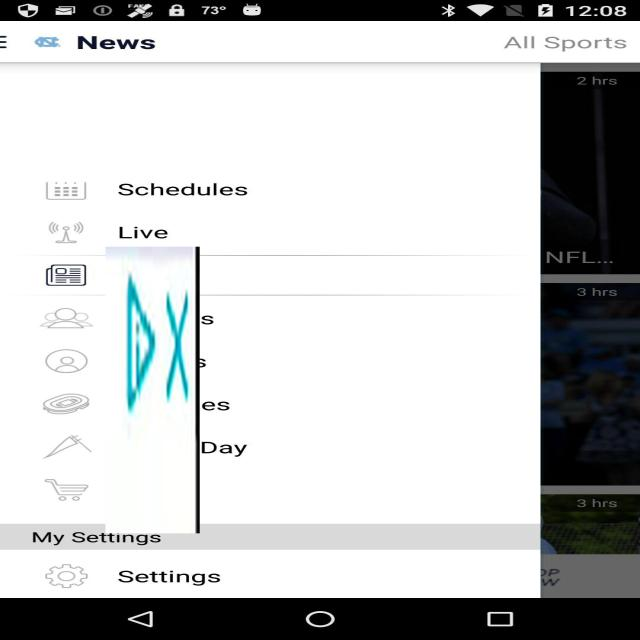sneaking: (106, 247, 200, 533)
